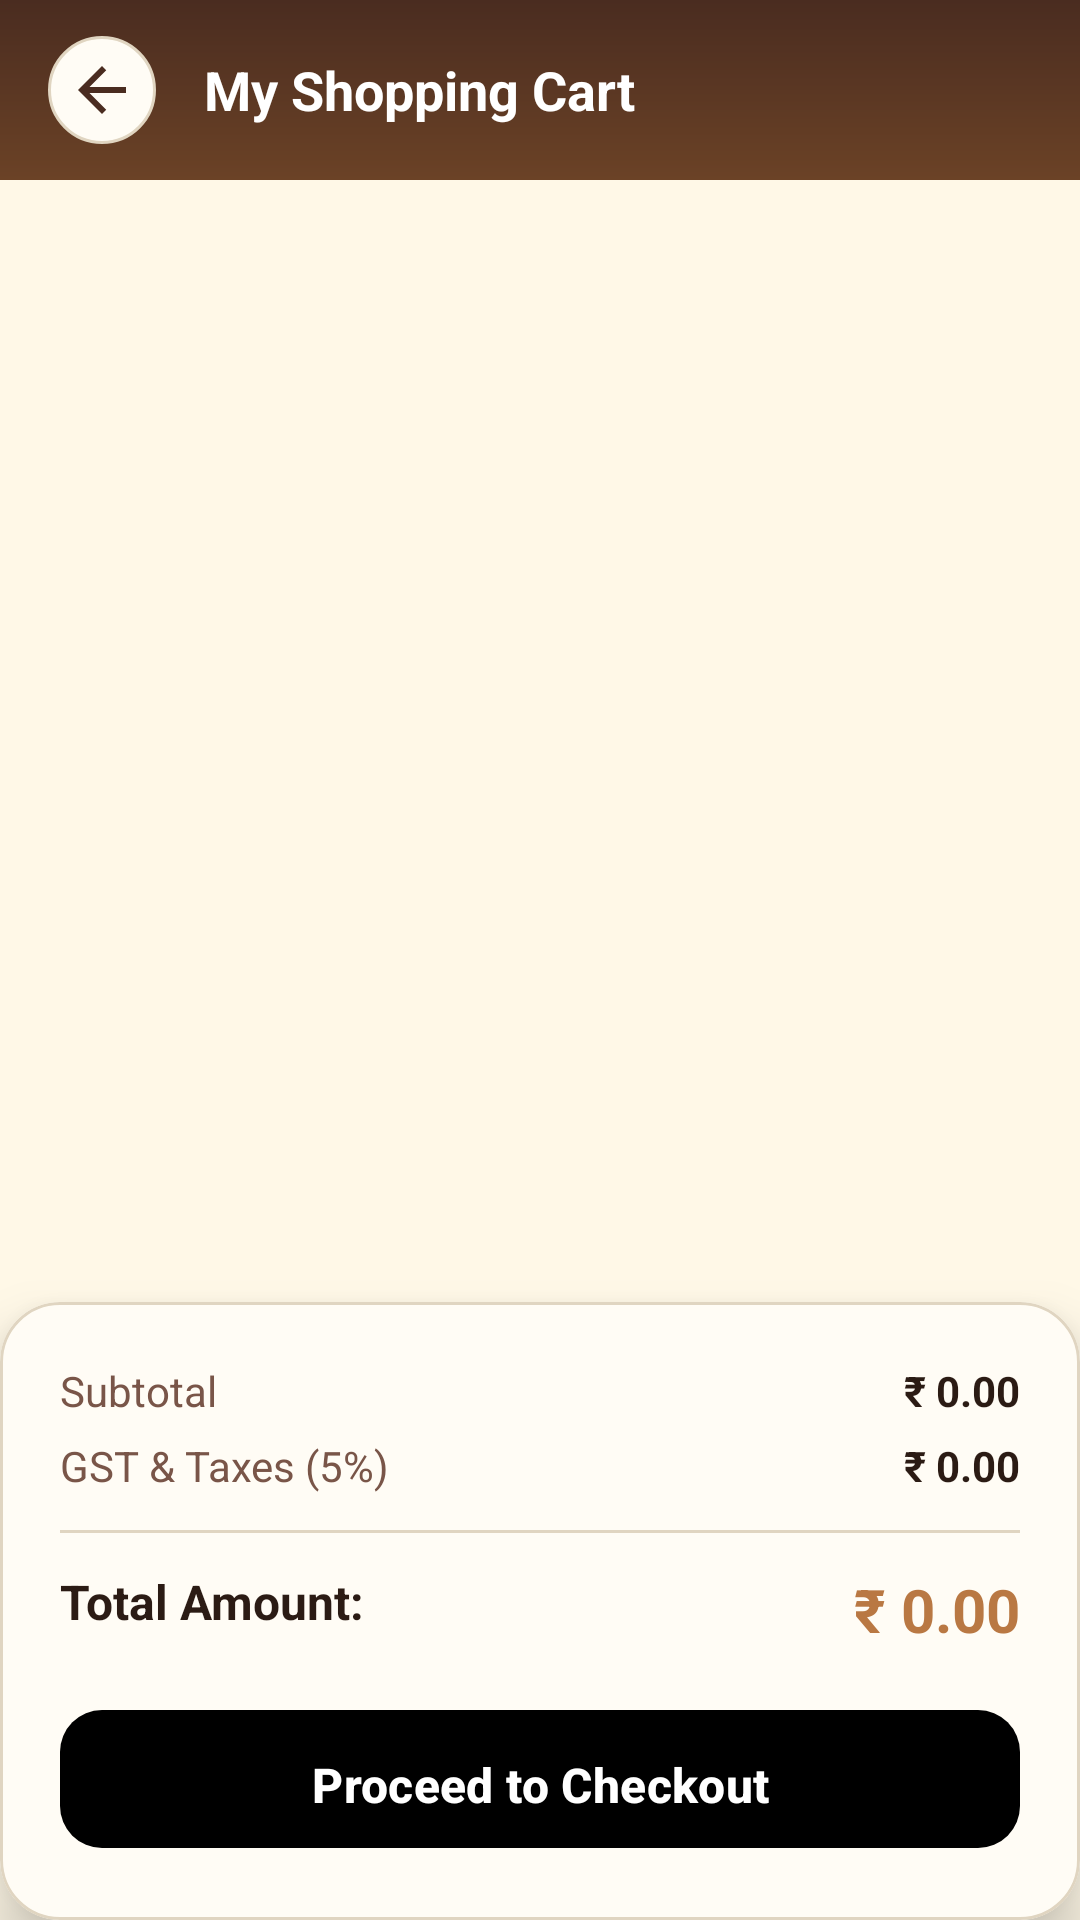

Where icons sit on this 1080 x 1920 app screen, as box(x1, y1, x2, y2):
Back: box(48, 36, 156, 144)
